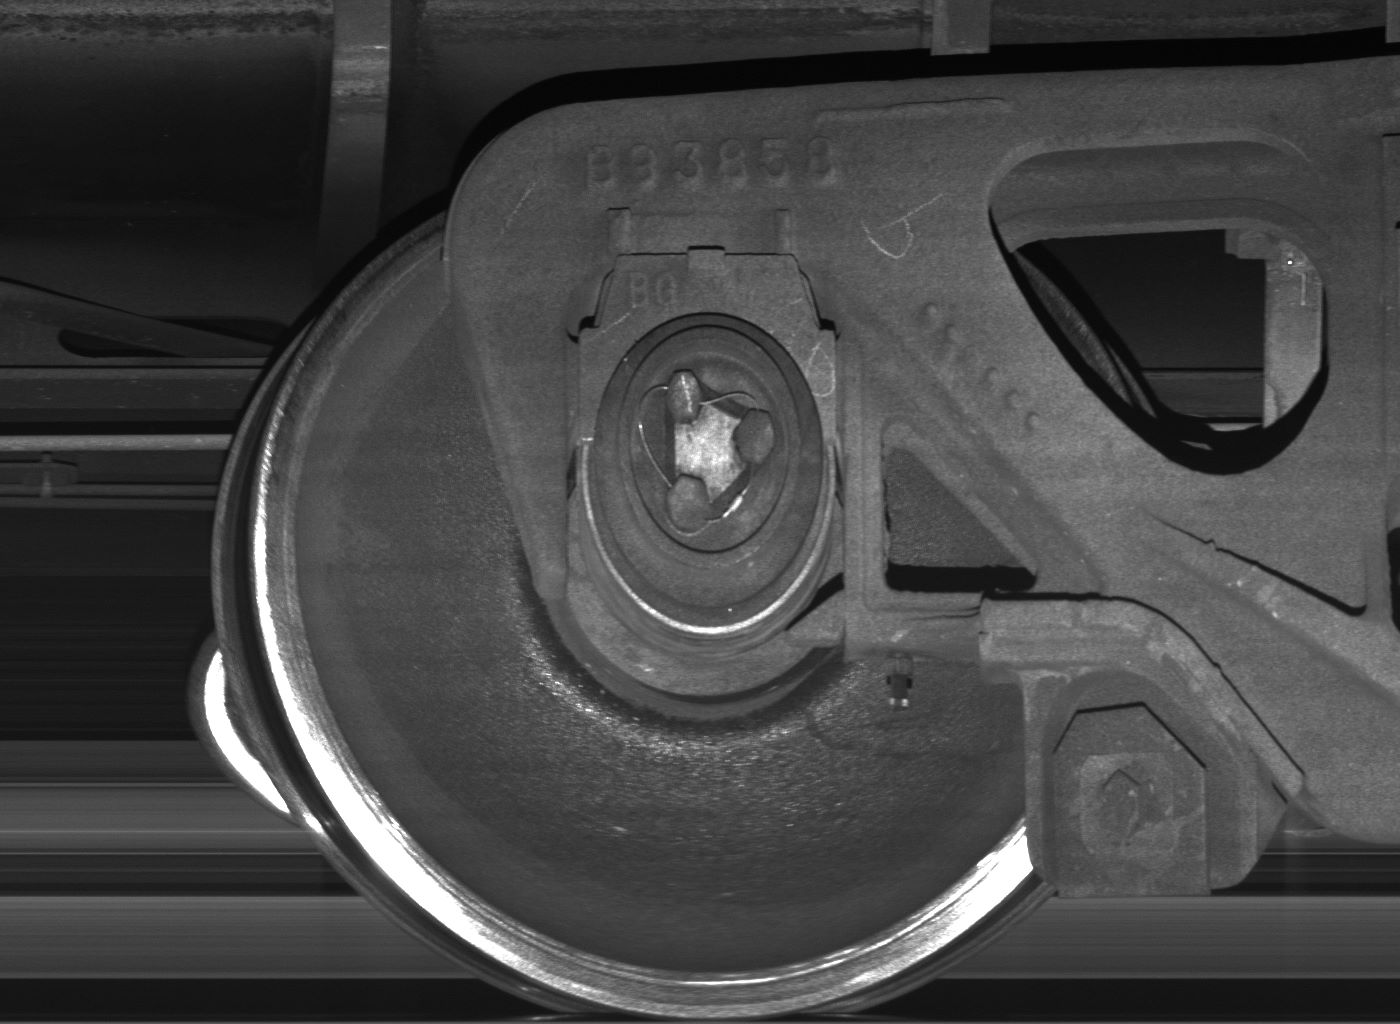normal: (1025, 670, 1260, 897)
